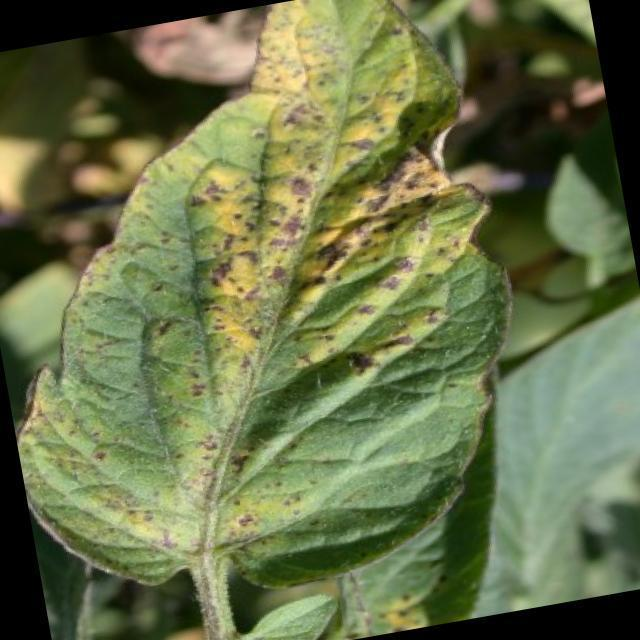Bacterial Spot: (21, 92, 507, 568)
